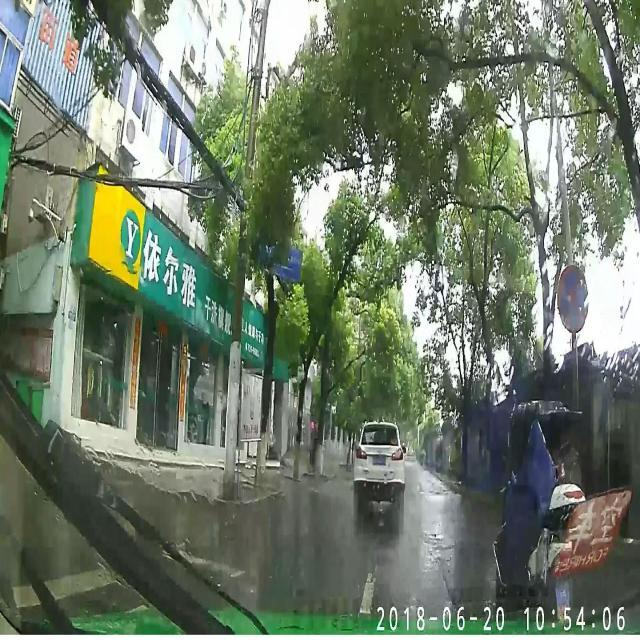car: (353, 420, 405, 516)
